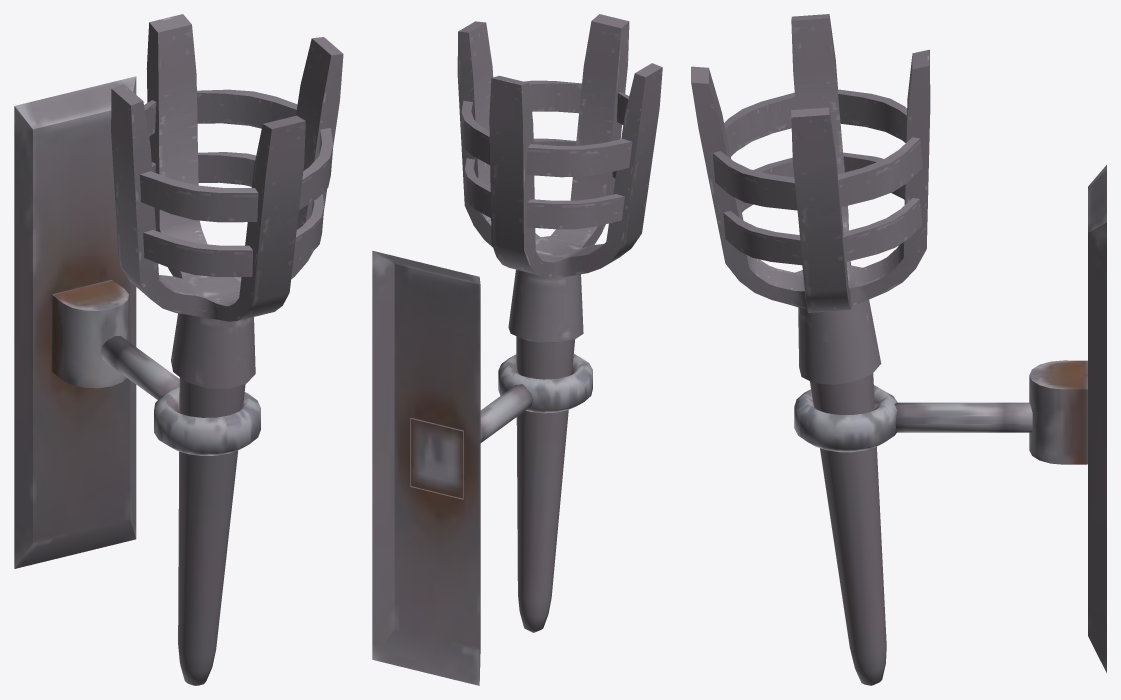
Rendered from Torch_Metal.gltf.
3 renders of one model, left to right at view 1: azimuth 30°, elevation 25°; view 2: azimuth 150°, elevation 25°; view 3: azimuth 270°, elevation 25°, orthographic. The views are drawn at different scales.
Visible parts, largest first — view 1: Torch_Metal; view 2: Torch_Metal; view 3: Torch_Metal.
Boxes of the visible parts, box(x1,y1,x2,y2) form: Torch_Metal: box(14, 14, 343, 685); Torch_Metal: box(372, 14, 662, 685); Torch_Metal: box(691, 14, 1106, 685).
Size of the model in its own units: 0.2231 by 0.6482 by 0.3884.
1 material, 1 textured.
